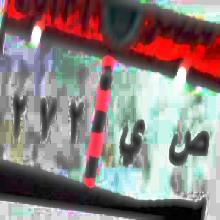2: (68, 96, 84, 152), (12, 84, 26, 148)
7: (34, 87, 56, 150)
saad: (169, 124, 209, 172)
yaa: (120, 116, 144, 169)
